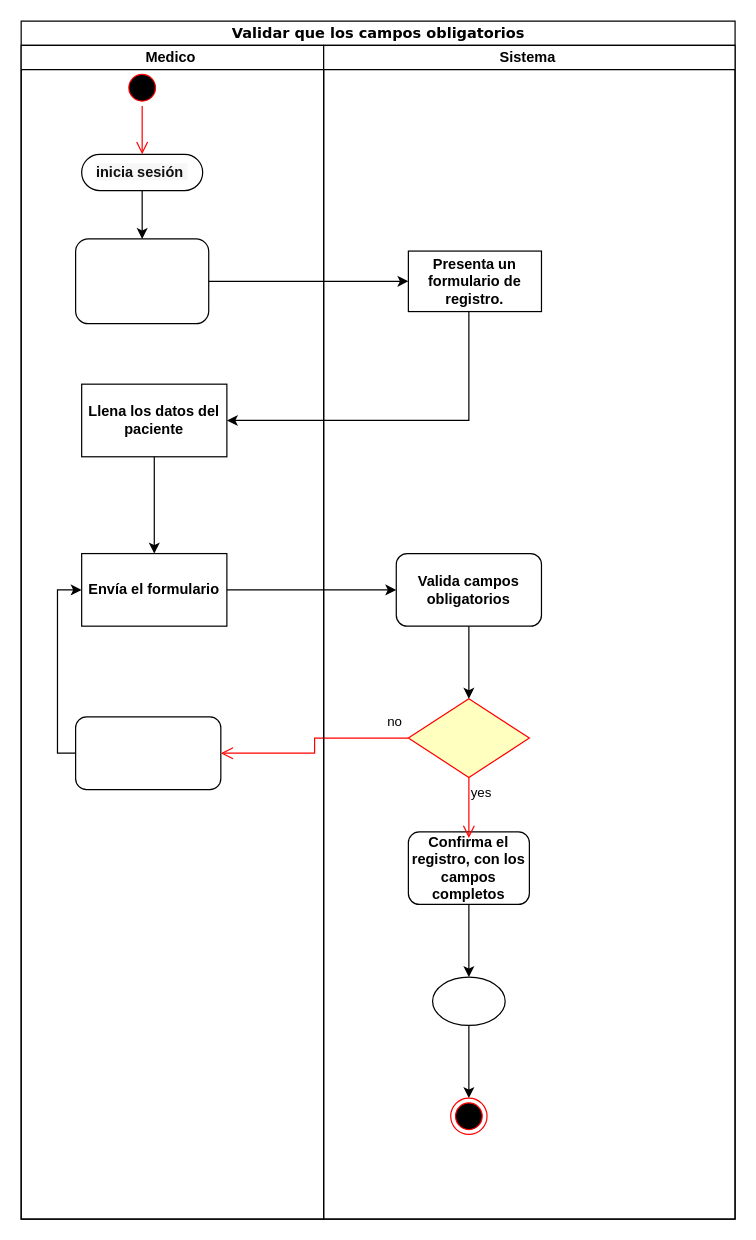
Image size: 756x1240. Some labels were removed from this diagram. The centre of each missing label's shape, as x and y in pixels:
fin: (468,1000)
Muestra mensaje de error y solicita completar los campos necesarios: (147,753)
Selecciona la opción "Registrar Paciente: (141,281)
¿Campos Completos?: (468,737)
